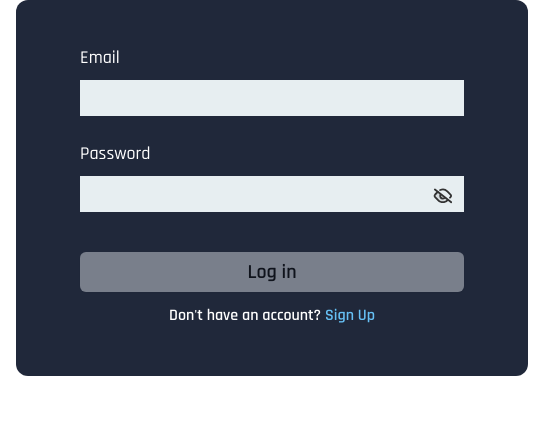
Test: LoginCard › validates email input
Type "invalid-email" into the field labelled "Email".
click(272, 98); type("invalid-email")  # box [80,80,464,116]
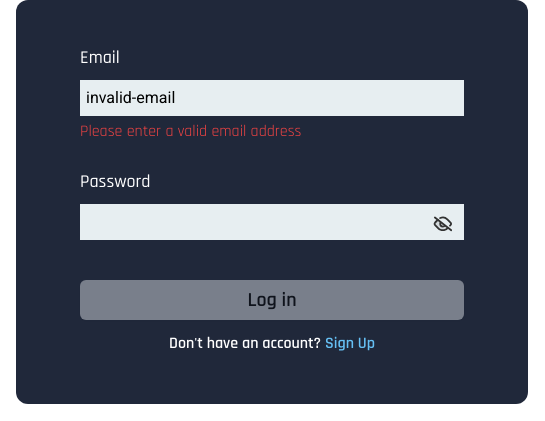
Result: the text "Please enter a valid email address" is shown at [80,121,302,142]
Replace the text in the field labelled "Email" with "valid@example.com" at (272, 98), box [80,80,464,116]
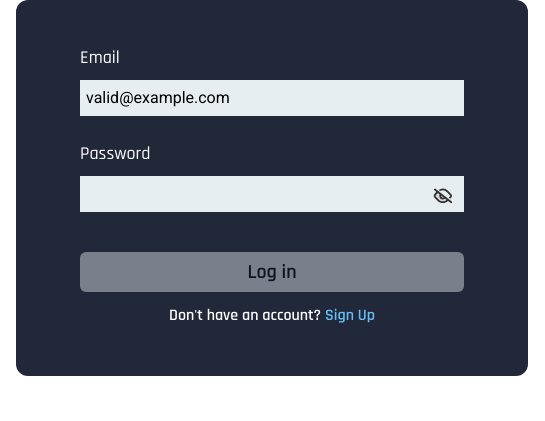
Result: the text "Please enter a valid email address" is gone
